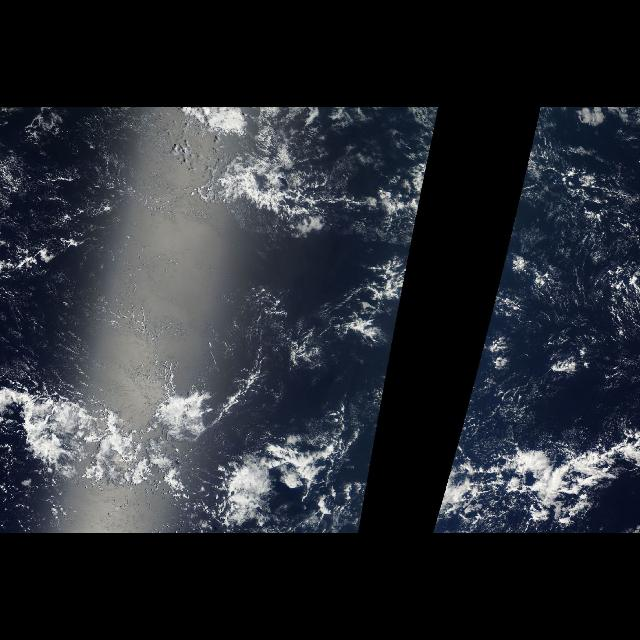Fish: (137, 114, 439, 272), (7, 373, 214, 525), (434, 414, 632, 524)
